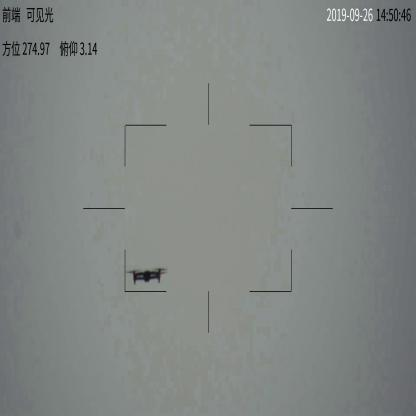uav: (127, 265, 167, 287)
